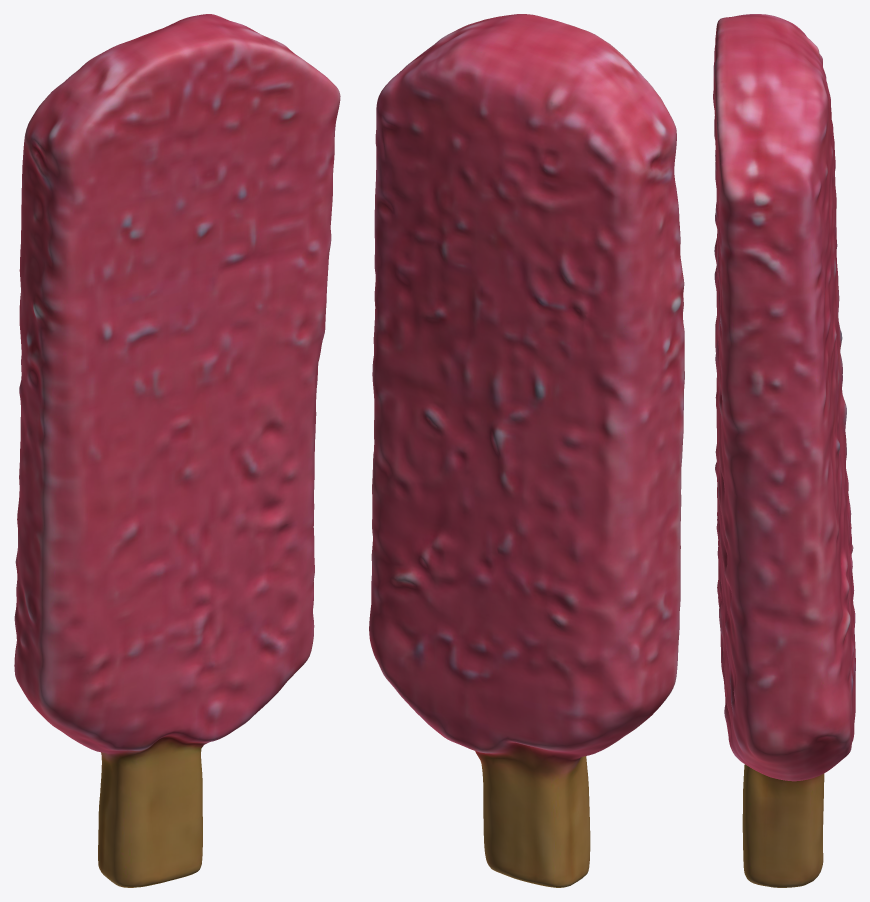
File: candy-collectible.glb
The picture shows the model from 3 angles, left to right: view 1: azimuth 30°, elevation 25°; view 2: azimuth 150°, elevation 25°; view 3: azimuth 270°, elevation 25°; orthographic projection. The views are drawn at different scales.
Visible parts, largest first — view 1: world; view 2: world; view 3: world.
Part boxes in pixels (bbox=[...]): world: bbox=[14, 14, 340, 887]; world: bbox=[369, 14, 684, 887]; world: bbox=[713, 14, 855, 887].
Bounding box in the file's own units: 0.2176 × 0.5997 × 0.0918.
1 material, 1 textured.
